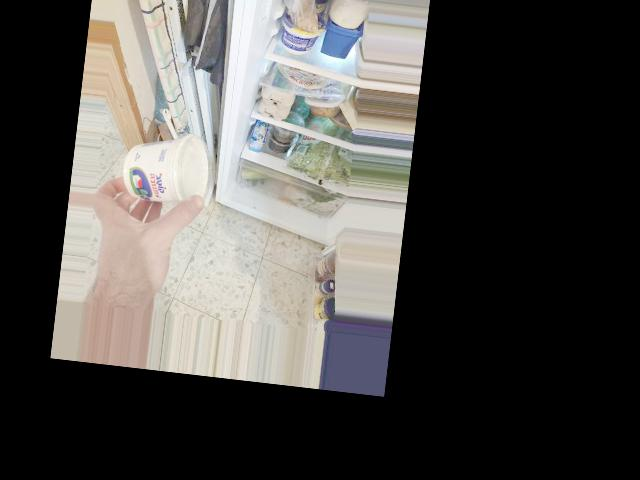cotage: (122, 127, 212, 214)
